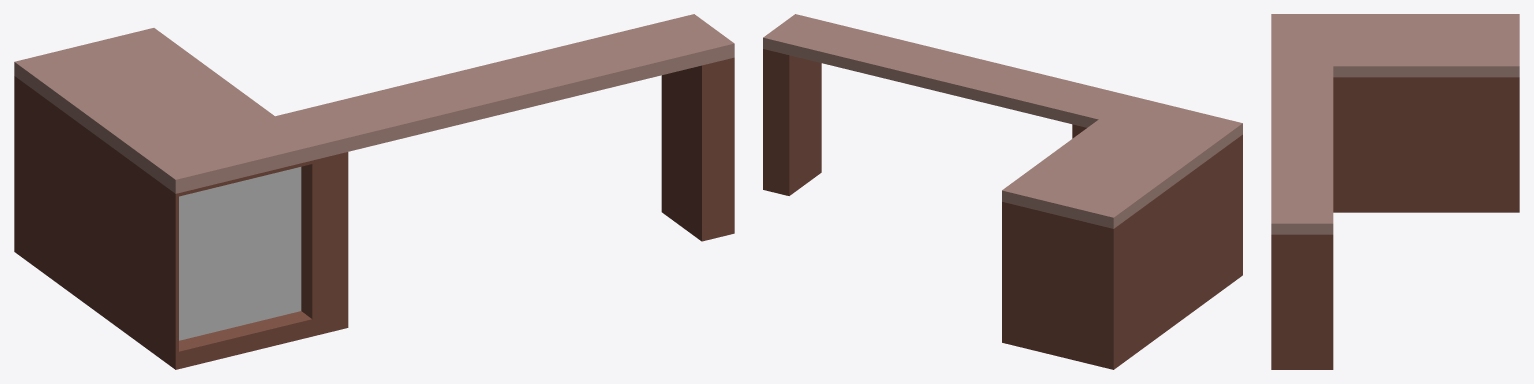
Rendered from Reception.fbx.
3 renders of one model, left to right at view 1: azimuth 30°, elevation 25°; view 2: azimuth 150°, elevation 25°; view 3: azimuth 270°, elevation 25°, orthographic. The views are drawn at different scales.
Parts seen in each view (by area): view 1: Reception; view 2: Reception; view 3: Reception.
Boxes of the visible parts, x1,y1,x2,y2 form: Reception: [14, 14, 734, 369]; Reception: [763, 14, 1242, 369]; Reception: [1271, 14, 1519, 369].
Size of the model in its own units: 400 by 130 by 200.
